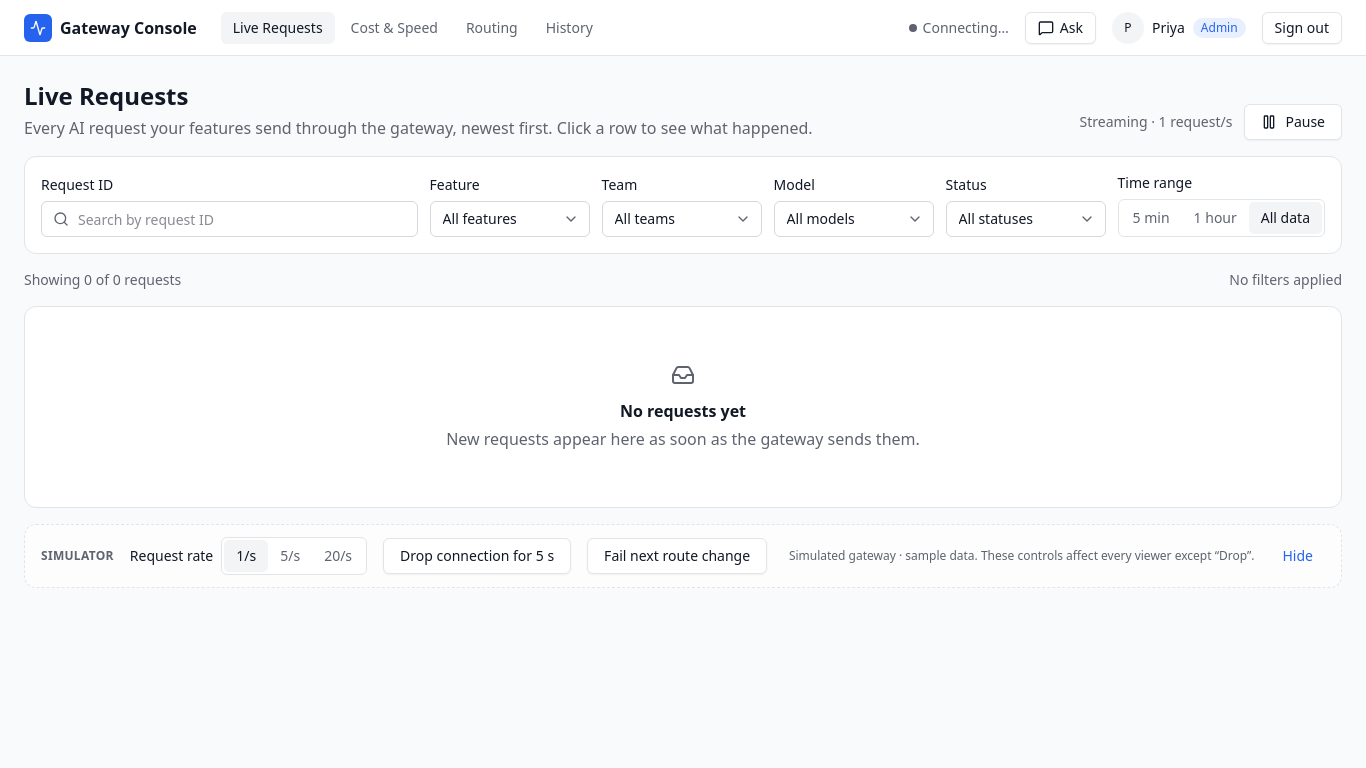
Chat panel (S7, FR-24..FR-28) › shows an error when the gateway cannot answer
Click the button "Ask": (1060, 28) [1025,12,1096,44]
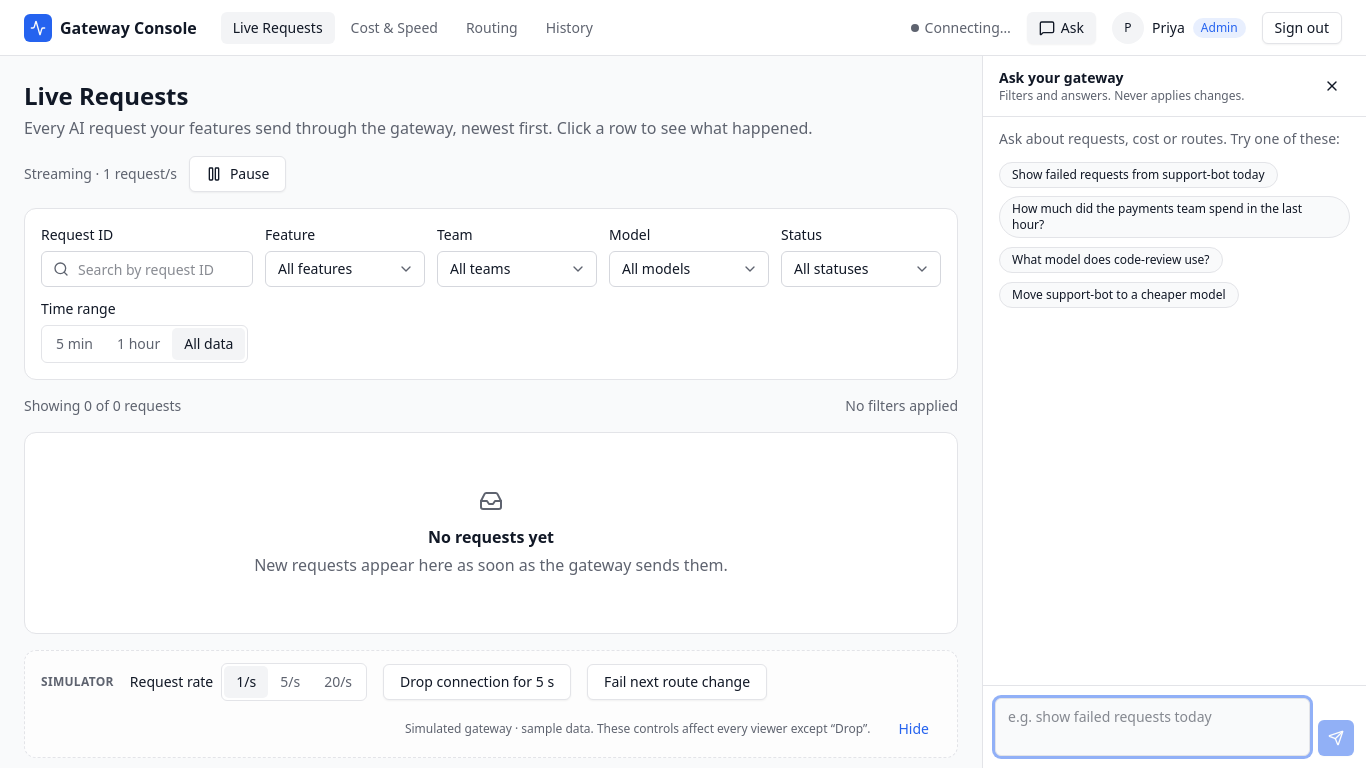
In the text box named "Message": (1152, 727) [995,698,1310,756], type "total spend"
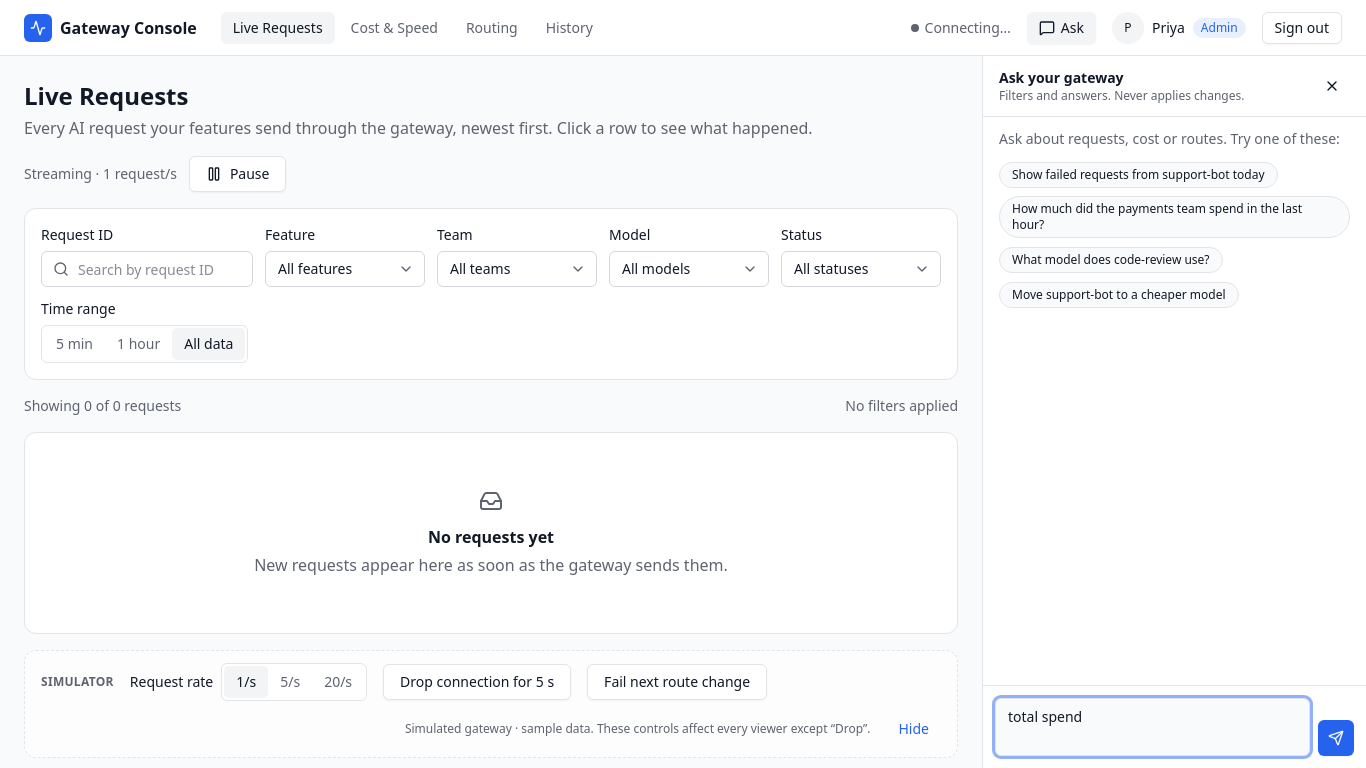
Click the button named "Send": (1336, 738) [1318,720,1354,756]
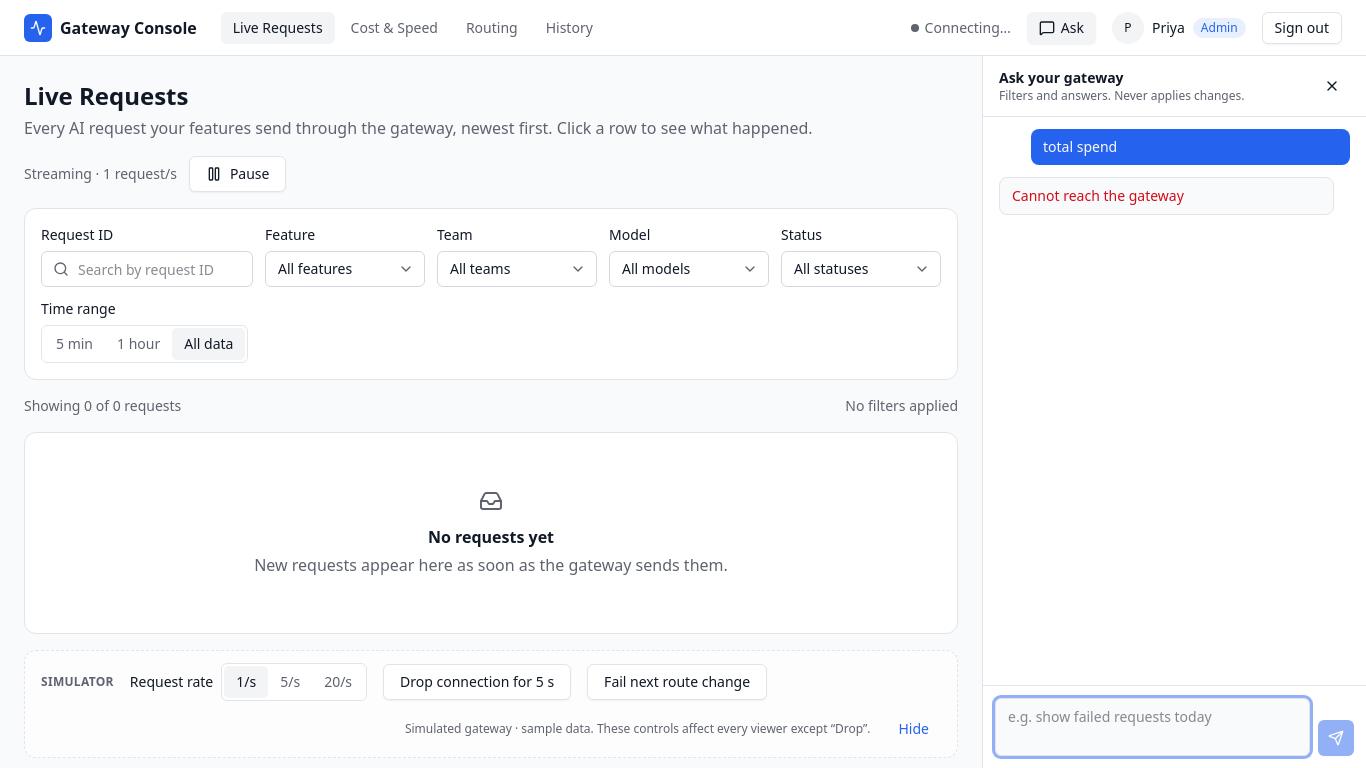
Expected: the message "Cannot reach the gateway" is shown, [1012,186,1184,205]
